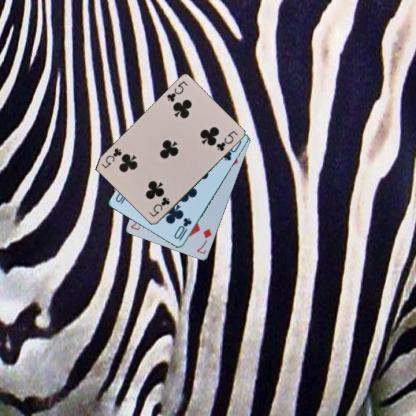10c: (171, 216, 193, 242)
5c: (164, 78, 189, 104), (147, 195, 171, 218)
7d: (194, 226, 213, 256)
